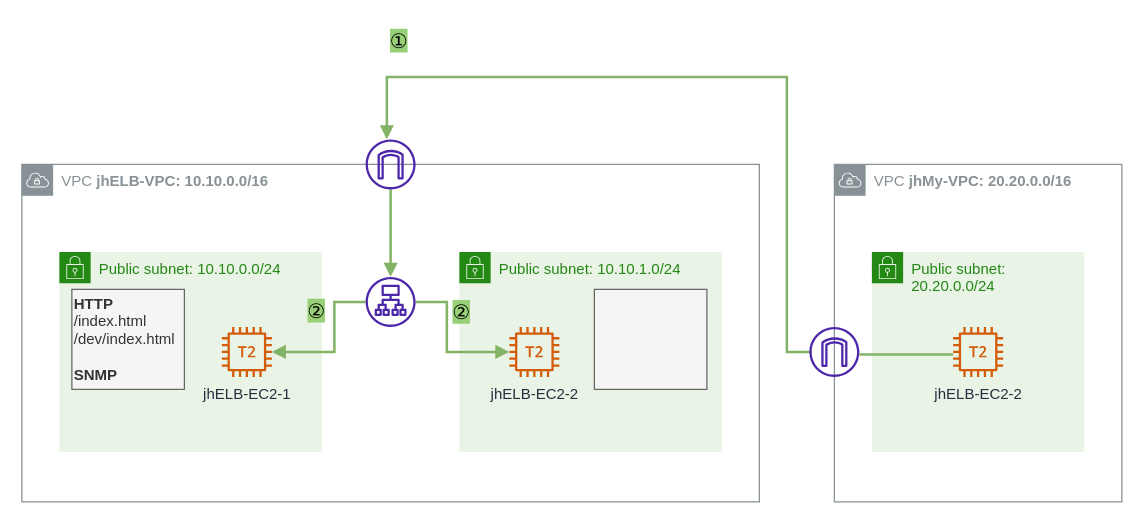
Image size: 1144x524. Some labels were removed from this diagram. The shapes that lost their labels are listed below. From the top down, each one's centre as x and y in pixels, then its label:
pixel 390 164: jhELB-IGW
pixel 390 301: ALB
pixel 650 338: HTTP /index.html /mgt/index.html SNMP
pixel 834 351: jhMy-IGW
